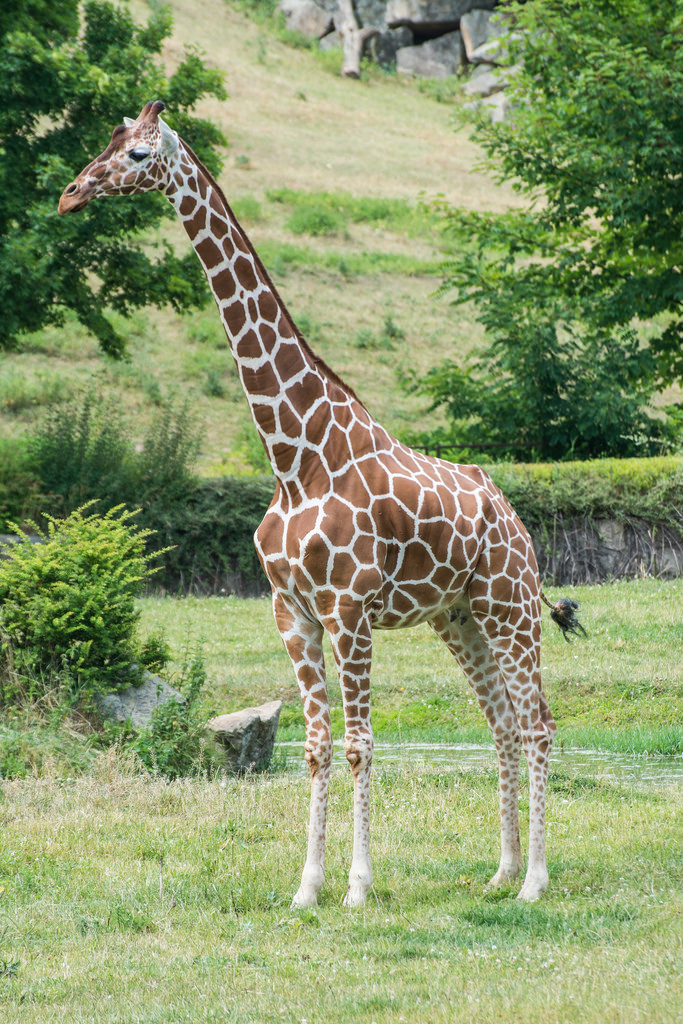giraffe: (63, 90, 589, 950)
